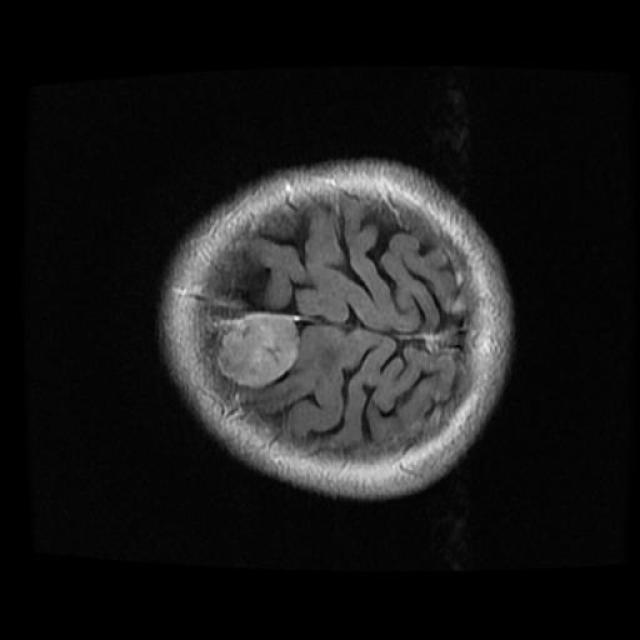Meningioma: (217, 313, 299, 388)
